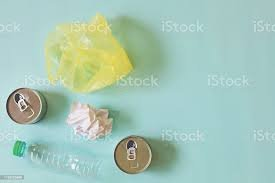metal: (109, 131, 160, 173), (5, 84, 51, 128)
paper: (64, 101, 119, 142)
plastic: (5, 135, 104, 183)
plastic bag: (48, 18, 142, 96)
